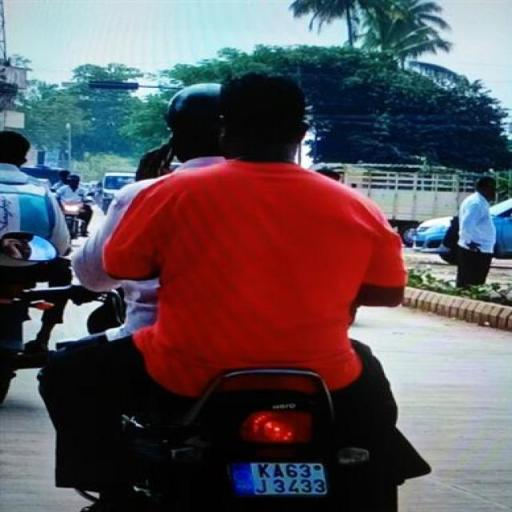numberplate: (239, 461, 330, 497)
using mobile: (136, 126, 192, 188)
